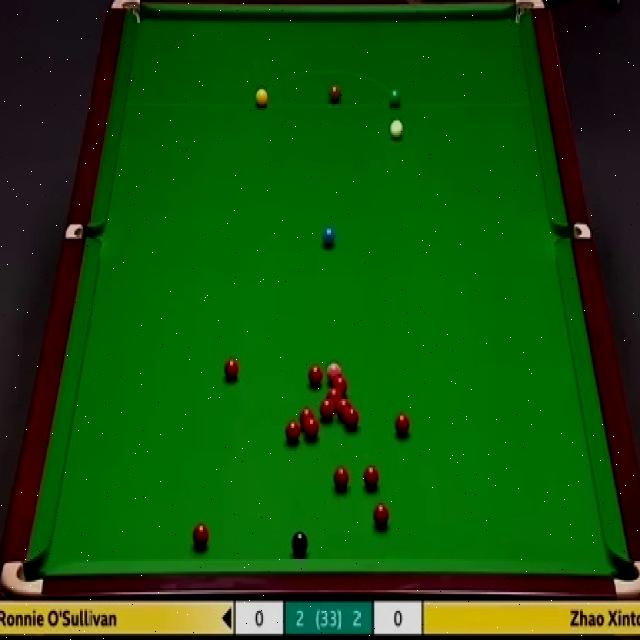black-ball: (292, 528, 308, 557)
blue-ball: (321, 225, 336, 250)
brown-ball: (328, 86, 340, 104)
green-ball: (389, 88, 401, 108)
pink-ball: (327, 362, 342, 379)
red-ball: (372, 503, 390, 530), (192, 524, 210, 550), (308, 363, 324, 389), (344, 405, 360, 430), (333, 467, 350, 489), (363, 466, 379, 489), (395, 414, 411, 436), (224, 356, 238, 381), (305, 416, 320, 439), (286, 420, 300, 442), (298, 405, 314, 424), (319, 400, 335, 418), (336, 399, 352, 417), (325, 387, 343, 401), (332, 376, 350, 388)
white-ball: (389, 117, 405, 141)
yellow-ball: (254, 86, 270, 108)
